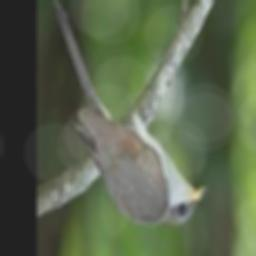Cuckoo: (53, 0, 207, 228)
